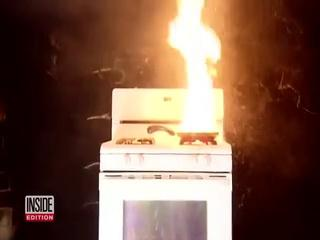Fire: (174, 1, 232, 135)
